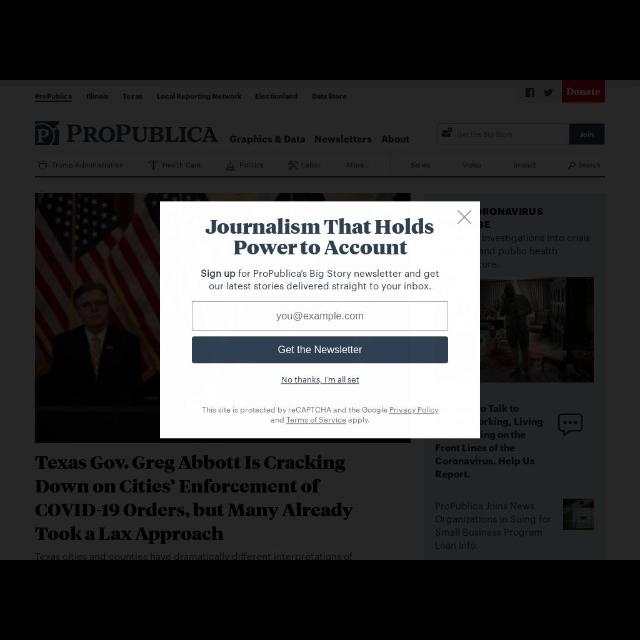backgroundimage: (35, 191, 162, 443), (482, 276, 596, 386), (564, 499, 594, 529)
icon: (557, 414, 583, 436), (144, 155, 162, 173), (456, 210, 474, 227), (225, 156, 238, 174), (566, 157, 578, 175), (36, 158, 49, 172), (284, 160, 296, 172), (542, 87, 554, 97), (442, 128, 452, 140), (525, 88, 535, 98)
iframe: (160, 200, 480, 440)
image: (32, 118, 220, 148)
input: (193, 300, 451, 334), (440, 122, 570, 144)
link: (286, 417, 346, 425), (391, 408, 439, 414)
spinner: (341, 158, 377, 172)
text: (36, 450, 354, 544), (435, 404, 543, 478), (203, 220, 434, 254), (198, 268, 440, 292), (434, 502, 552, 550), (200, 405, 442, 425), (279, 342, 361, 358), (275, 312, 365, 324), (310, 132, 372, 146), (52, 160, 126, 170), (32, 89, 76, 105), (280, 376, 360, 384), (228, 136, 306, 144), (459, 130, 515, 140), (157, 94, 243, 100), (565, 88, 603, 99), (314, 90, 348, 102), (167, 160, 206, 170), (255, 94, 299, 102), (383, 136, 409, 146), (241, 160, 267, 170), (408, 160, 432, 170), (122, 91, 144, 101), (303, 160, 325, 170), (344, 160, 371, 168), (84, 92, 110, 100), (580, 130, 598, 140), (582, 160, 600, 170), (464, 162, 486, 170), (517, 162, 537, 170)
textbutton: (192, 336, 448, 362), (562, 82, 606, 104), (570, 122, 604, 146)
